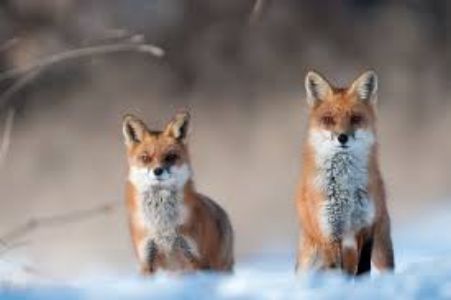fox: (107, 104, 244, 283), (290, 63, 405, 276)
